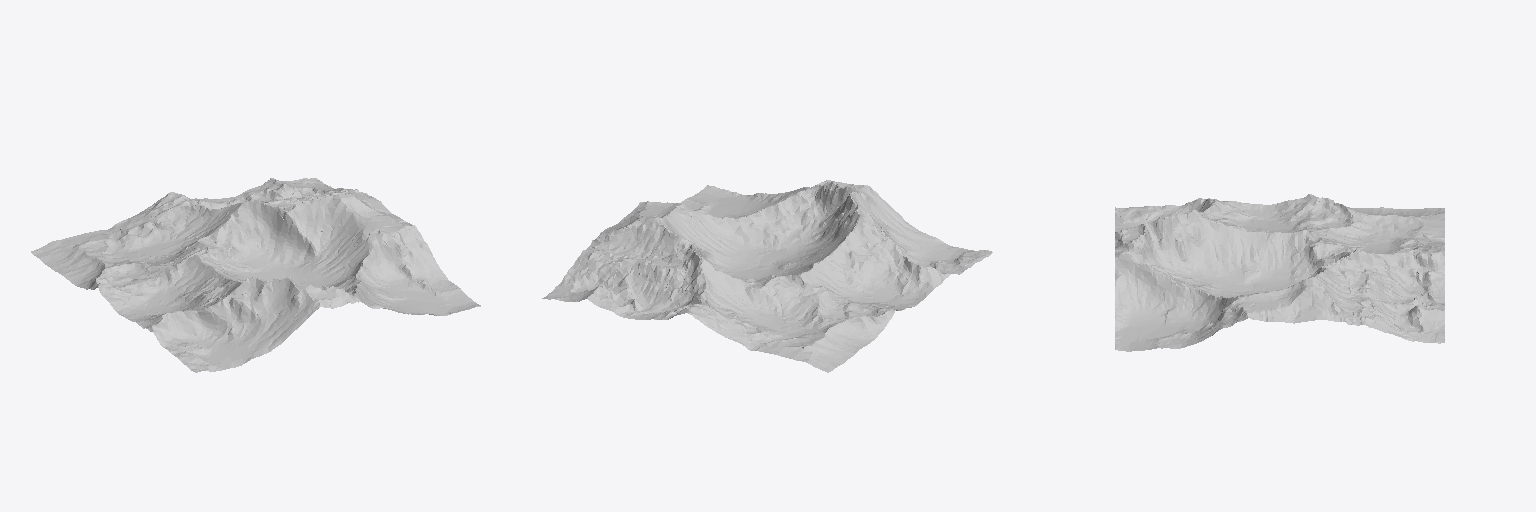
The model's file is terrain.obj.
The picture shows the model from 3 angles: view 1: azimuth 30°, elevation 25°; view 2: azimuth 150°, elevation 25°; view 3: azimuth 270°, elevation 25°; orthographic projection.
Parts seen in each view (by area): view 1: terrain; view 2: terrain; view 3: terrain.
Boxes of the visible parts, x1,y1,x2,y2 form: terrain: [31, 178, 480, 372]; terrain: [542, 180, 992, 372]; terrain: [1115, 194, 1444, 351].
Size of the model in its own units: 1000 by 177 by 1000.